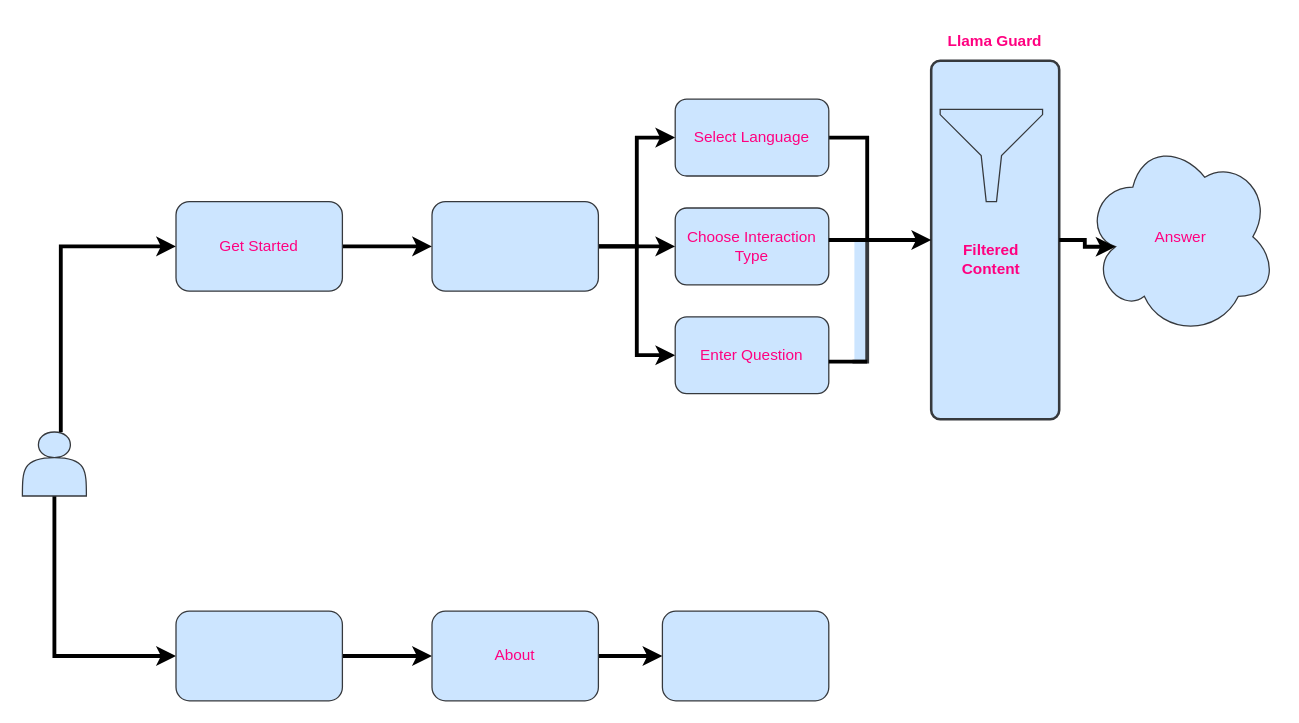
Image size: 1299x723. Some labels were removed from this diagram. Each missing label, with the centre of its shape:
"Contact" belongs at pixel 745 655.
"Learn" belongs at pixel 514 245.
"Learn More" belongs at pixel 258 655.
